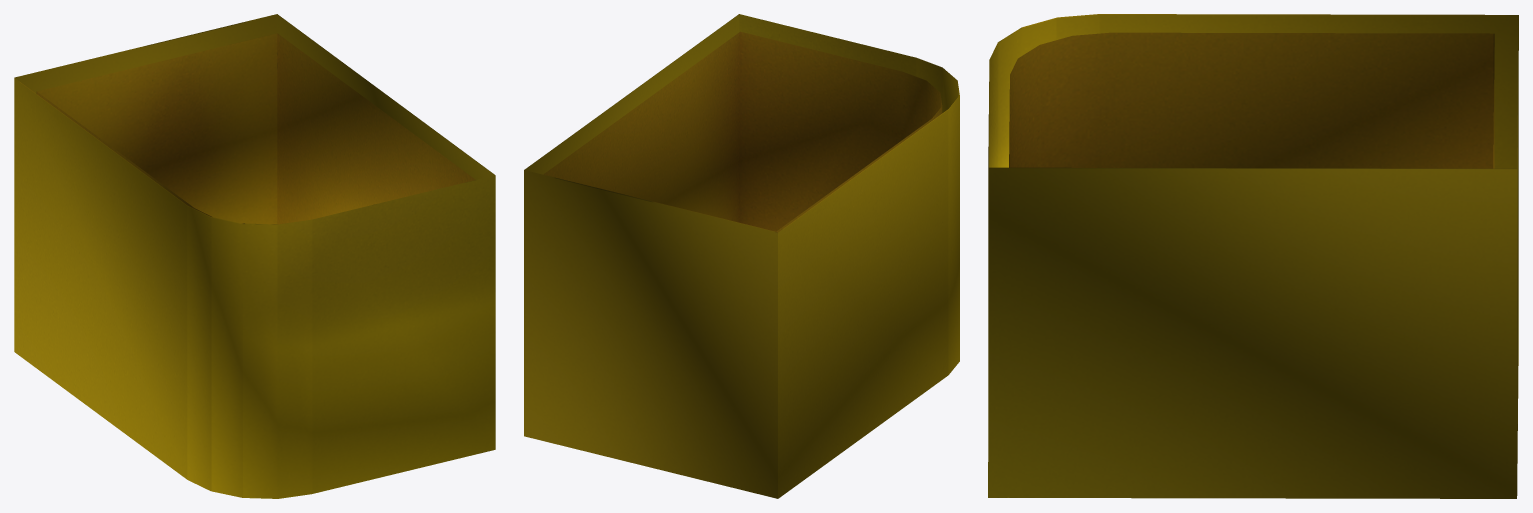
File: yellow_frame1.glb
3 renders of one model, left to right at view 1: azimuth 30°, elevation 25°; view 2: azimuth 150°, elevation 25°; view 3: azimuth 270°, elevation 25°, orthographic. The views are drawn at different scales.
Visible parts, largest first — view 1: player 2 block.001; view 2: player 2 block.001; view 3: player 2 block.001.
Part boxes in pixels (x1,y1,x2,y2): player 2 block.001: (14, 14, 495, 498); player 2 block.001: (524, 14, 959, 498); player 2 block.001: (988, 14, 1518, 498).
Size of the model in its own units: 2.01 by 2 by 2.91.
1 material, 1 textured.
